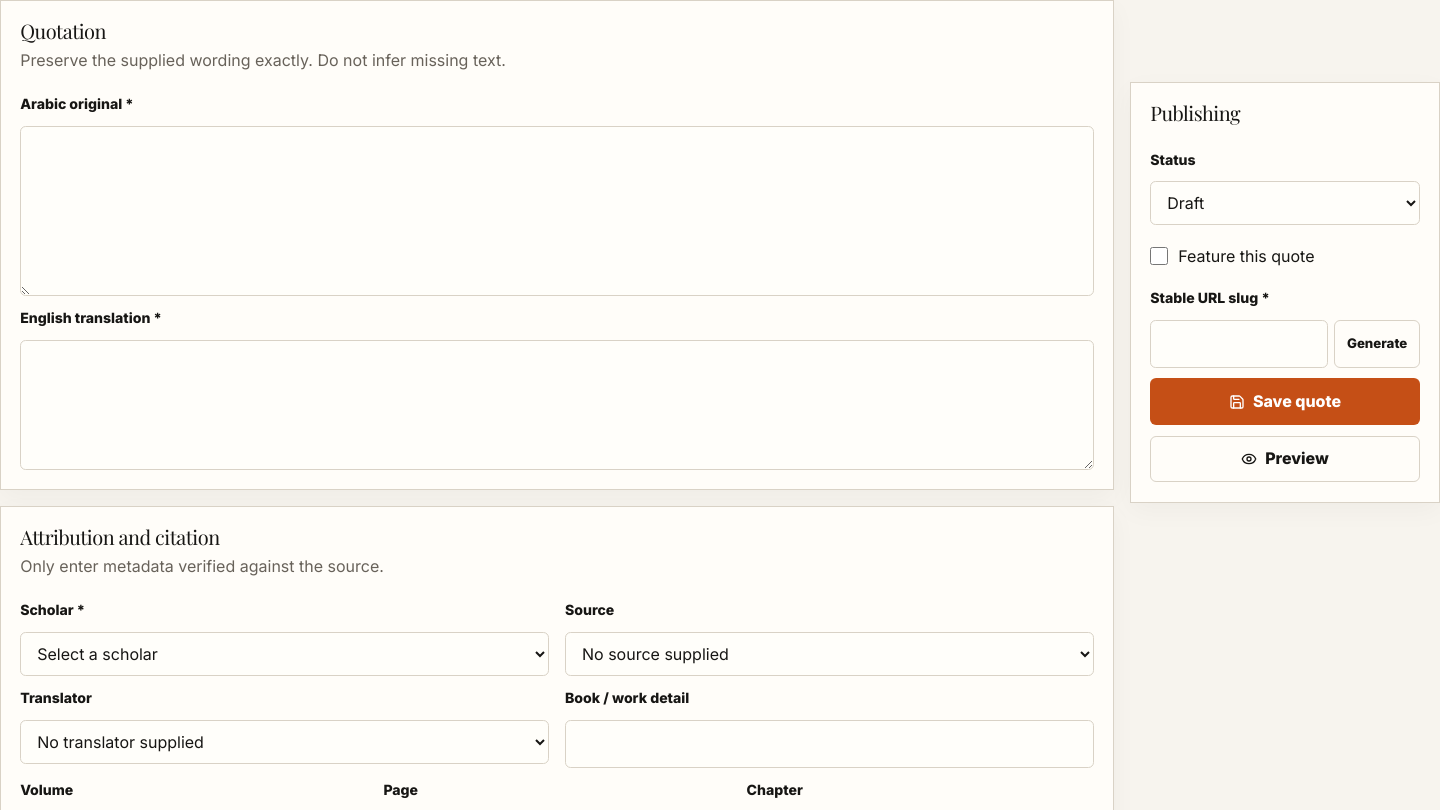
Scenario: admin quote editor › renders server validation next to the invalid field
Click the button "Save quote" at [1285, 402], box [1150,378,1420,425]
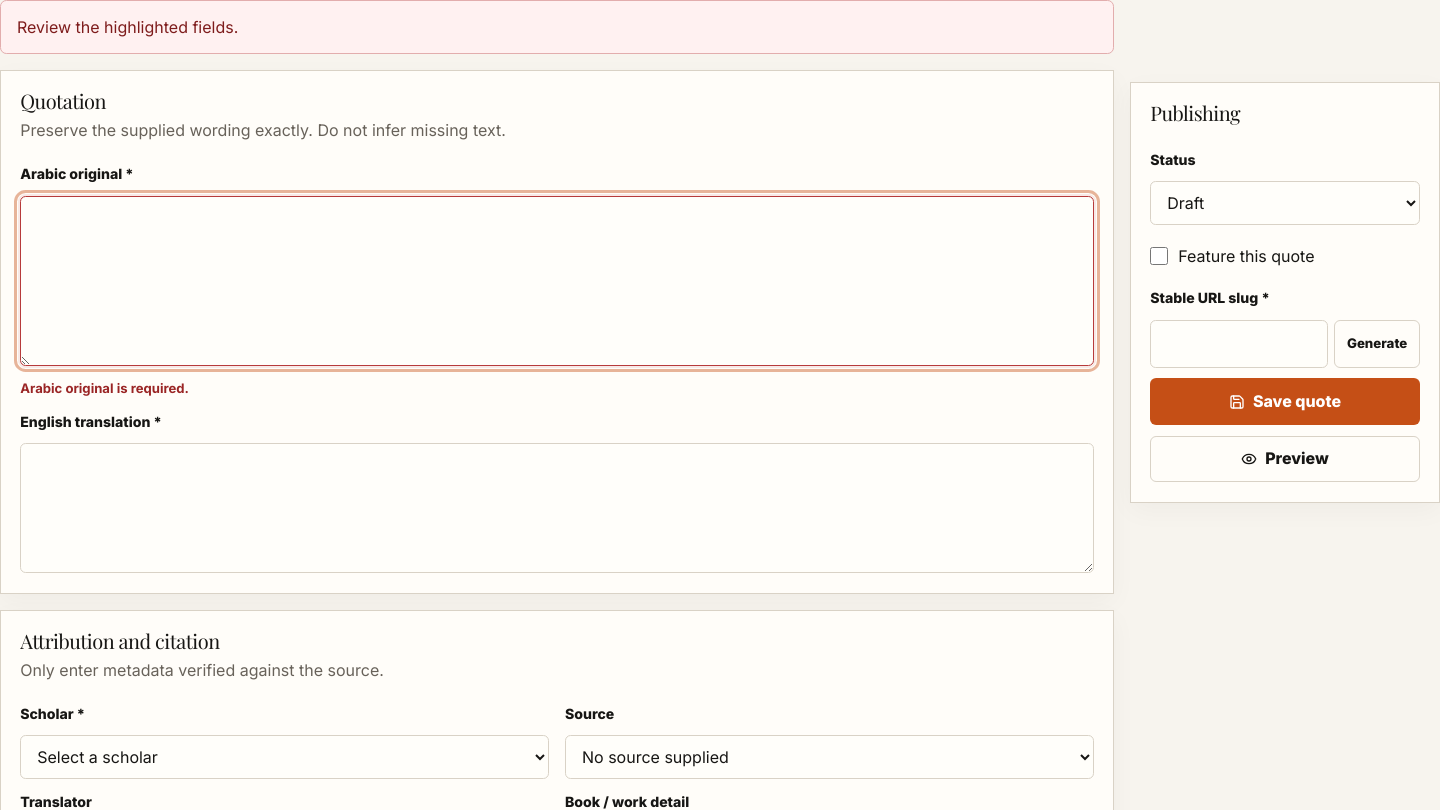
Expected: the message reads "Review the highlighted fields.", [17,17,238,37]
Expected: the text "Arabic original is required." is shown, [20,380,189,396]
